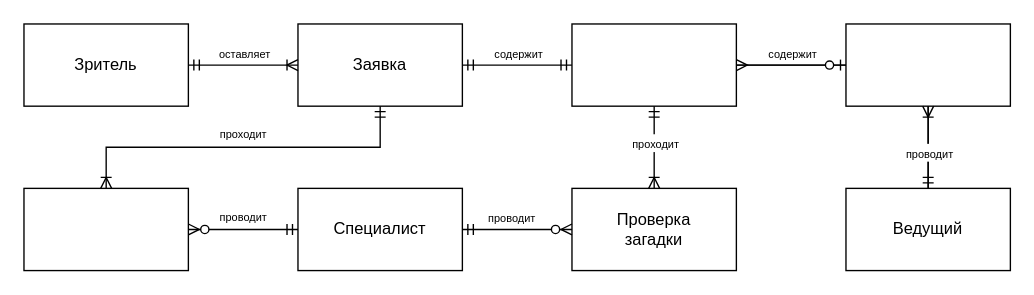
This 1034x295 diagram has some shape labels left out. Each missing label, with the centre of its shape:
Загадка: point 653,64
Игра: point 927,64
Проверка заявки: point 105,229
